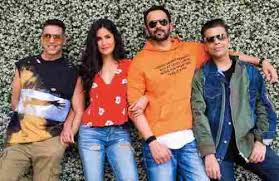Bad: (136, 5, 279, 181), (77, 6, 199, 181), (1, 19, 129, 181)
